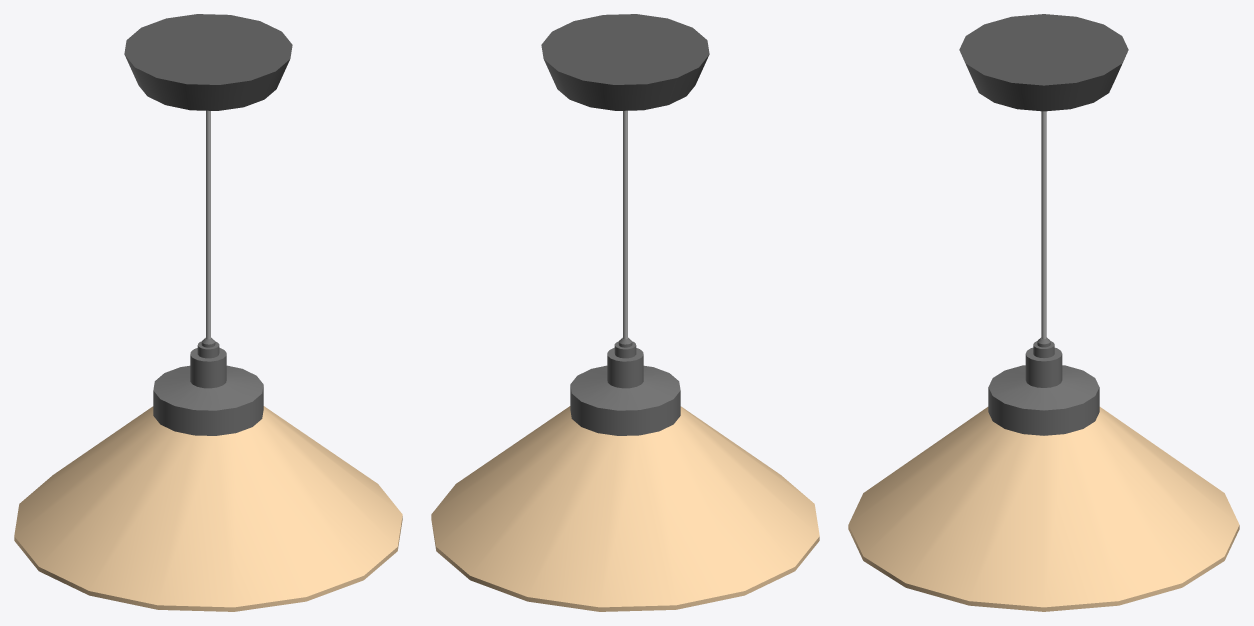
Rendered from Lamp04.fbx.
3 renders of one model, left to right at view 1: azimuth 30°, elevation 25°; view 2: azimuth 150°, elevation 25°; view 3: azimuth 270°, elevation 25°, orthographic.
Visible parts, largest first — view 1: Lamp04; view 2: Lamp04; view 3: Lamp04.
Part boxes in pixels (x1=…): Lamp04: x1=14, y1=14, x2=402, y2=611; Lamp04: x1=431, y1=14, x2=819, y2=611; Lamp04: x1=848, y1=14, x2=1239, y2=611.
Size of the model in its own units: 0.5554 by 0.5554 by 0.7512.
